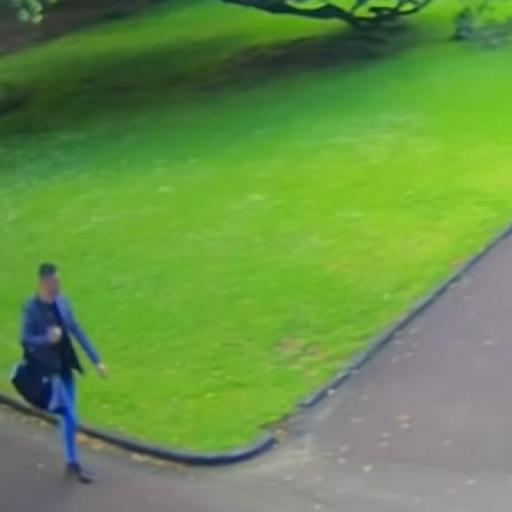person: (6, 247, 117, 499)
